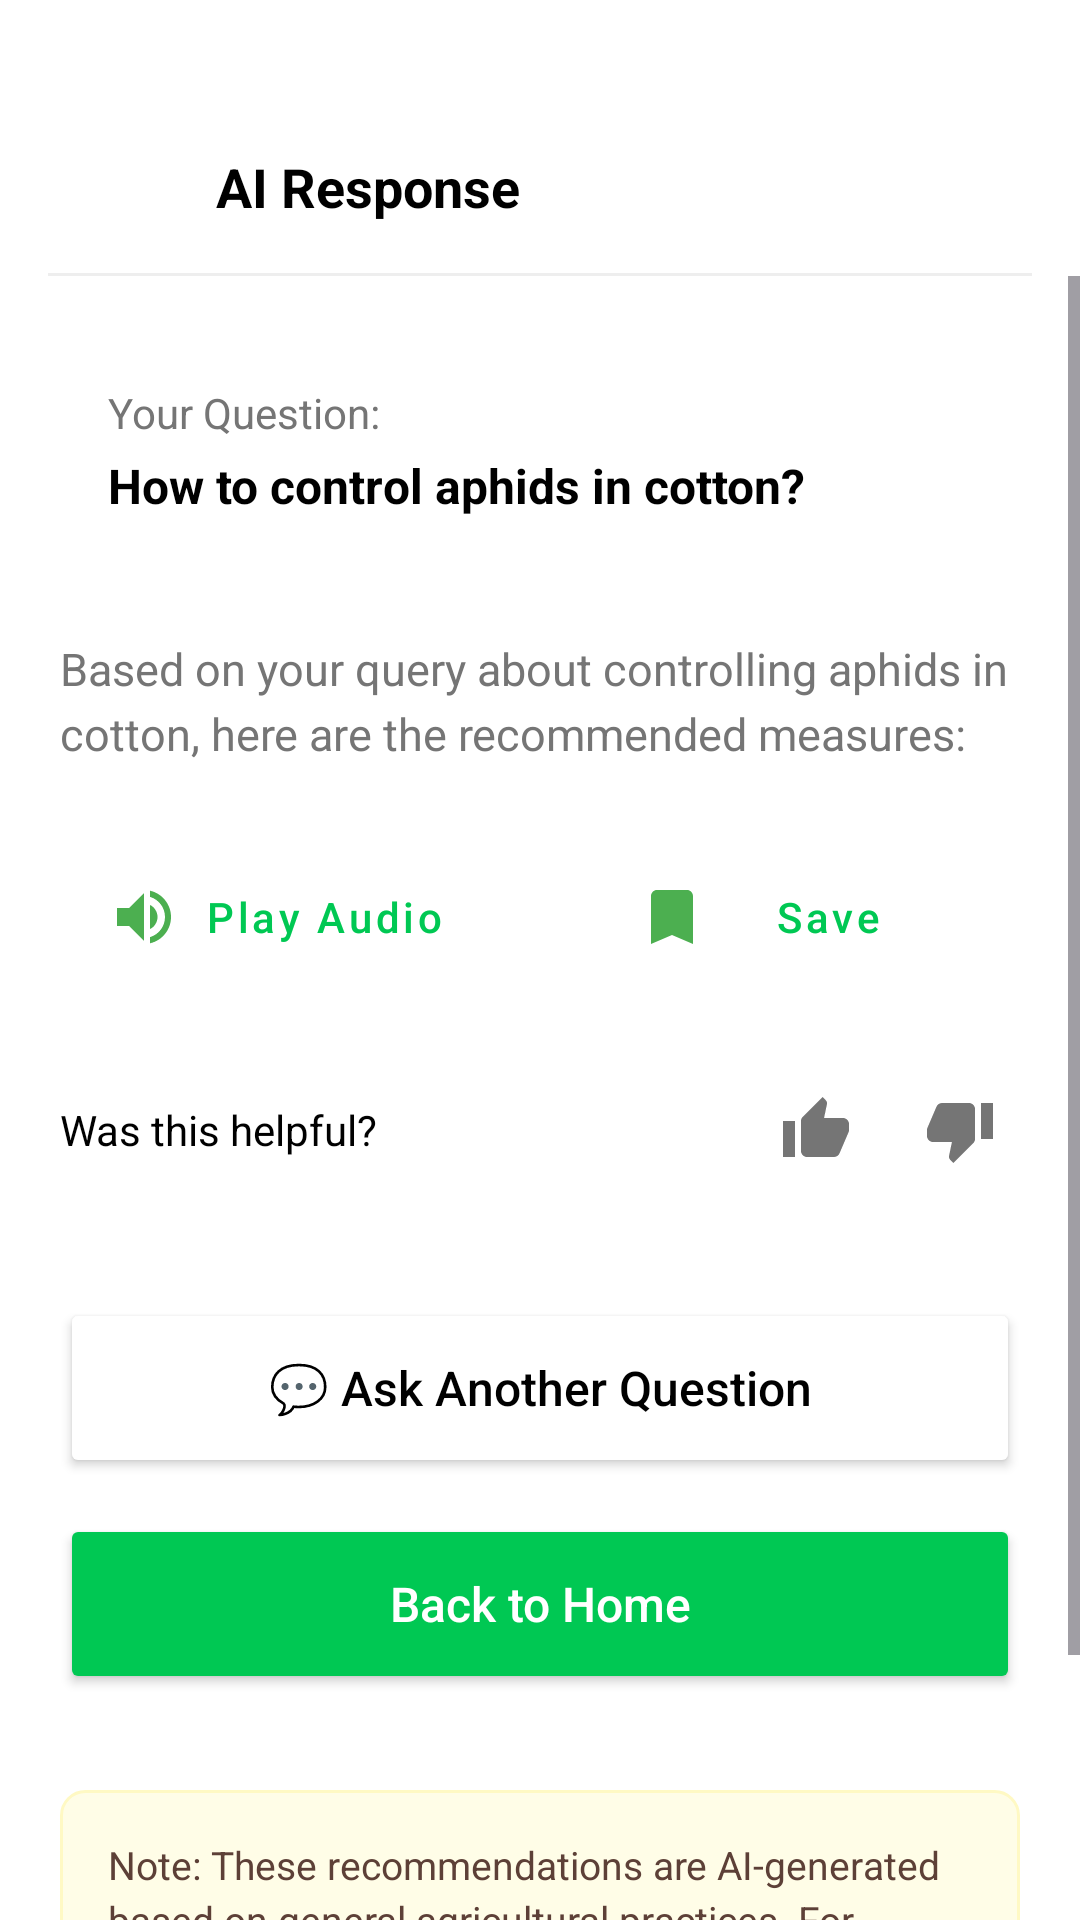

Icon bounding boxes for this 1080px×1920px phone screenshot, format [x1,y1,x2,y2]:
thumb down: [927,1103,993,1163]
thumb up: [783,1097,849,1157]
